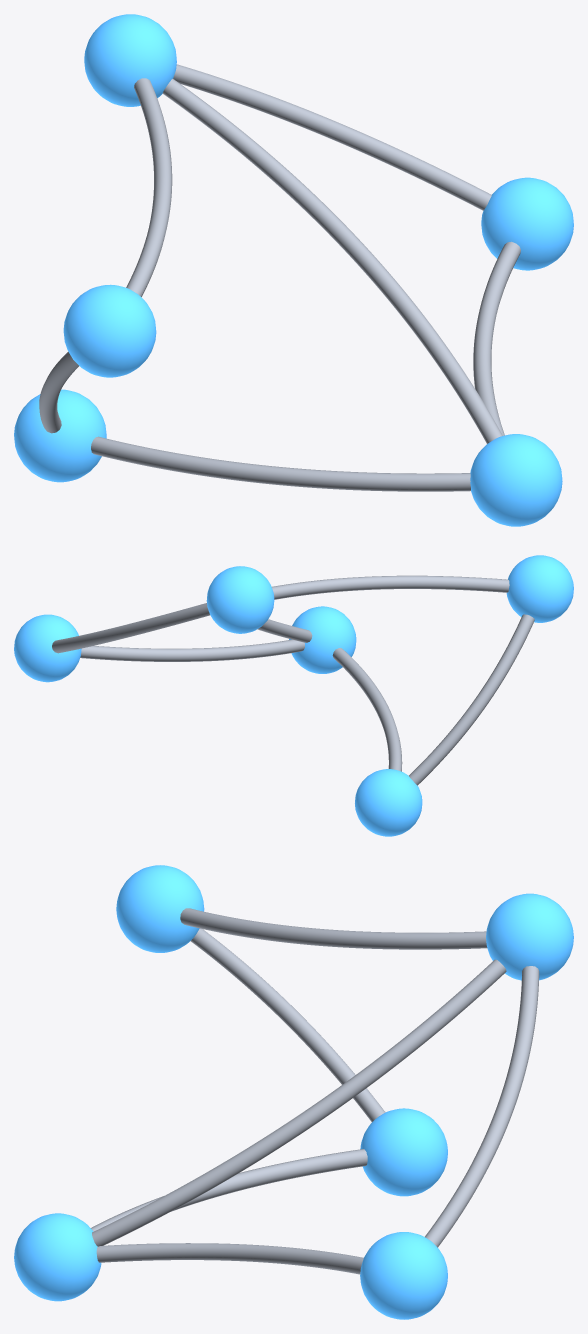
Rendered from node_graph_packet.glb.
The picture shows the model from 3 angles, top to bottom: view 1: azimuth 30°, elevation 25°; view 2: azimuth 150°, elevation 25°; view 3: azimuth 270°, elevation 25°; orthographic projection. The views are drawn at different scales.
Parts seen in each view (by area): view 1: Edge_1_3, Edge_3_4, Node_0, Node_3, Node_2, Node_1, Edge_1_2, Node_4, Edge_0_1, Edge_2_3, Edge_4_0; view 2: Node_1, Node_4, Node_0, Edge_0_1, Node_2, Edge_2_3, Node_3, Edge_4_0, Edge_1_2, Edge_3_4, Edge_1_3; view 3: Edge_1_3, Node_2, Node_4, Node_3, Node_1, Node_0, Edge_0_1, Edge_1_2, Edge_2_3, Edge_4_0, Edge_3_4.
Boxes of the visible parts, x1,y1,x2,y2 form: Edge_1_3: [162, 79, 502, 443]; Edge_3_4: [91, 436, 470, 491]; Node_0: [63, 284, 156, 377]; Node_3: [470, 434, 562, 526]; Node_2: [481, 177, 573, 270]; Node_1: [84, 14, 176, 106]; Edge_1_2: [173, 64, 491, 210]; Node_4: [14, 389, 106, 482]; Edge_0_1: [126, 78, 172, 296]; Edge_2_3: [473, 241, 520, 435]; Edge_4_0: [39, 351, 78, 433]; Node_1: [206, 566, 274, 633]; Node_4: [355, 769, 422, 836]; Node_0: [506, 555, 573, 622]; Edge_0_1: [272, 575, 509, 599]; Node_2: [14, 614, 81, 682]; Edge_2_3: [80, 639, 304, 661]; Node_3: [289, 606, 356, 673]; Edge_4_0: [409, 614, 534, 785]; Edge_1_2: [52, 603, 209, 653]; Edge_3_4: [332, 648, 402, 771]; Edge_1_3: [257, 619, 312, 642]; Edge_1_3: [92, 959, 506, 1246]; Node_2: [360, 1232, 447, 1319]; Node_4: [360, 1108, 447, 1196]; Node_3: [14, 1213, 101, 1301]; Node_1: [486, 893, 573, 980]; Node_0: [116, 865, 204, 952]; Edge_0_1: [180, 908, 487, 949]; Edge_1_2: [425, 966, 539, 1247]; Edge_2_3: [96, 1243, 363, 1274]; Edge_4_0: [190, 928, 385, 1121]; Edge_3_4: [91, 1149, 367, 1231].
Bounding box in the file's own units: 4.36 × 2.51 × 3.56.
